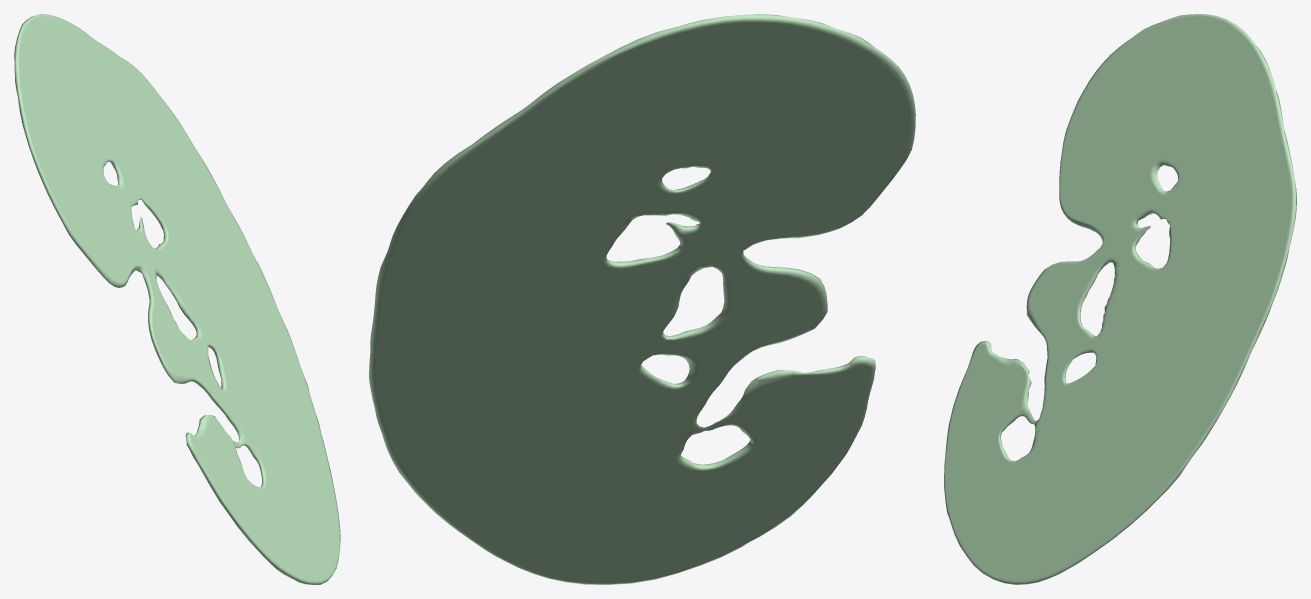
Rendered from VHF_Kidney_L_Extraction_Site.glb.
The picture shows the model from 3 angles, left to right: view 1: azimuth 30°, elevation 25°; view 2: azimuth 150°, elevation 25°; view 3: azimuth 270°, elevation 25°; orthographic projection. The views are drawn at different scales.
Visible parts, largest first — view 1: VHF_Kidney_L_Extraction_Site; view 2: VHF_Kidney_L_Extraction_Site; view 3: VHF_Kidney_L_Extraction_Site.
Part boxes in pixels (x1,y1,x2,y2): VHF_Kidney_L_Extraction_Site: (14,14,340,584); VHF_Kidney_L_Extraction_Site: (369,14,915,584); VHF_Kidney_L_Extraction_Site: (944,14,1296,584).
Size of the model in its own units: 0.7777 by 1.25 by 0.8404.
